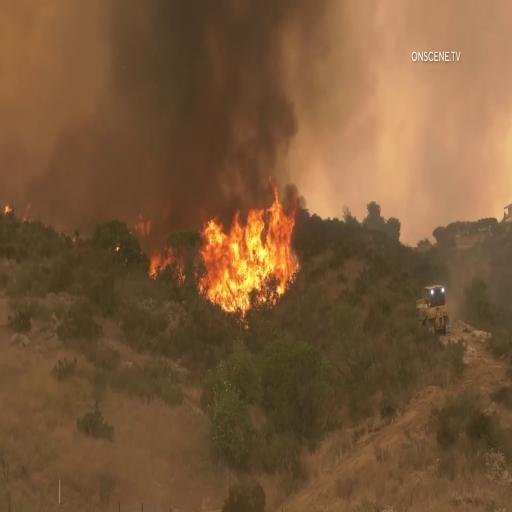fire: (193, 182, 299, 318)
smoke: (134, 30, 287, 171)
